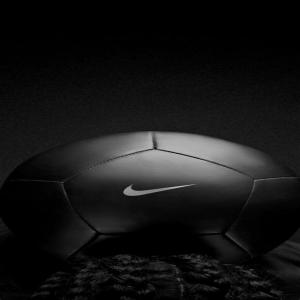Football: (0, 130, 289, 276)
